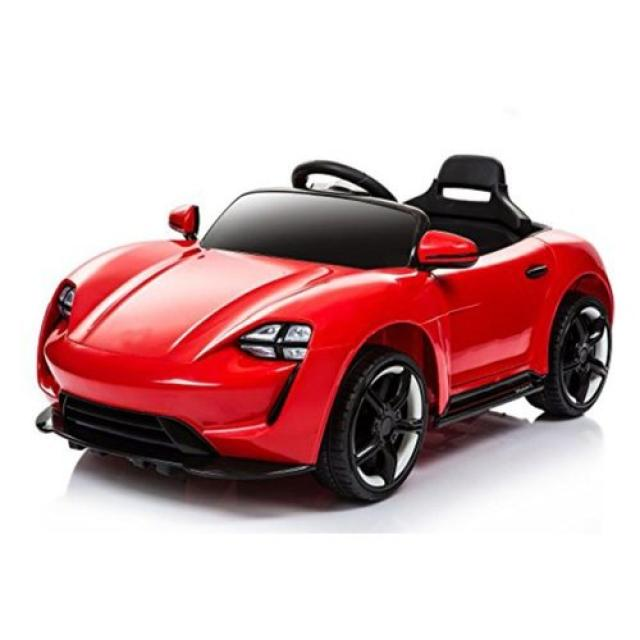Car: (33, 152, 614, 504)
